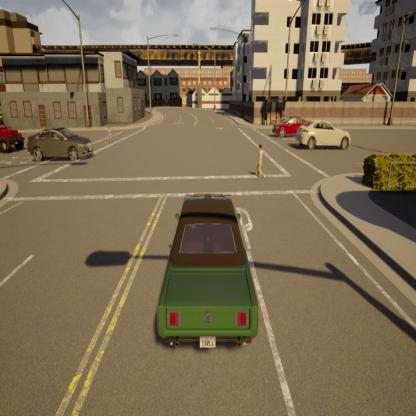Cars: (153, 190, 267, 368), (25, 122, 100, 166), (295, 117, 355, 155), (267, 111, 322, 144), (0, 118, 26, 157)
Pedestrian: (254, 141, 267, 181), (103, 118, 114, 147)
